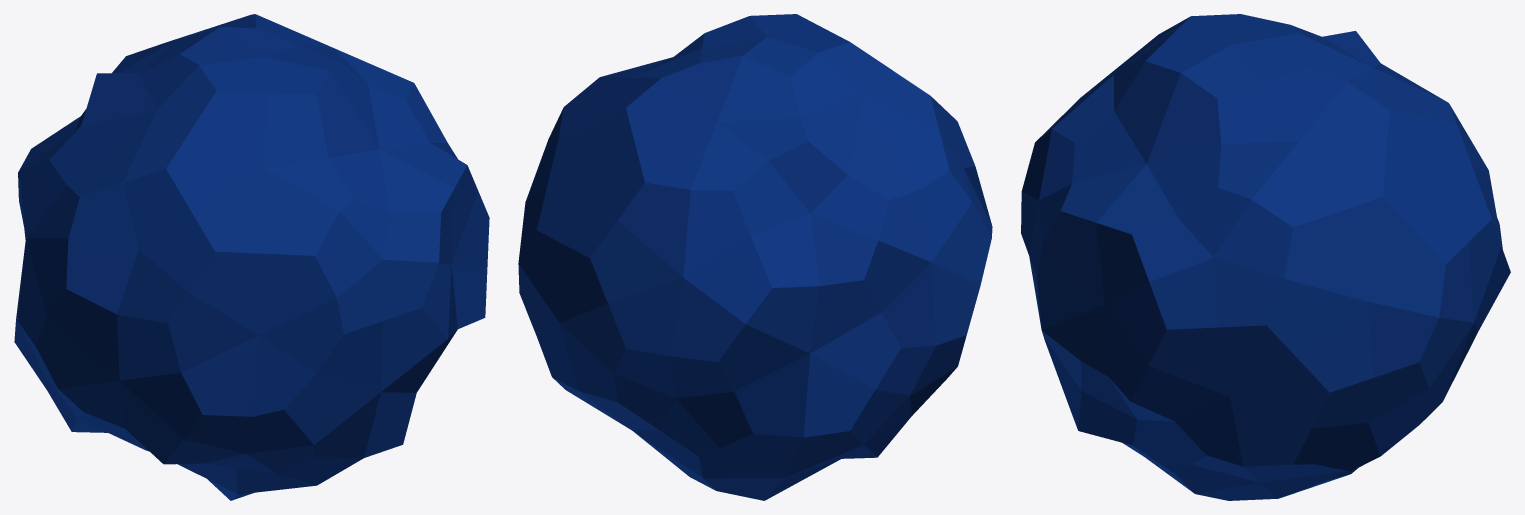
Rendered from planet 6.obj.
3 views of the same model, side by side, from view 1: azimuth 30°, elevation 25°; view 2: azimuth 150°, elevation 25°; view 3: azimuth 270°, elevation 25° (orthographic). The views are drawn at different scales.
Parts seen in each view (by area): view 1: polySurface456 pSolid56; view 2: polySurface456 pSolid56; view 3: polySurface456 pSolid56.
Part boxes in pixels (x1=…): polySurface456 pSolid56: x1=14, y1=14, x2=489, y2=500; polySurface456 pSolid56: x1=518, y1=14, x2=992, y2=500; polySurface456 pSolid56: x1=1021, y1=14, x2=1510, y2=500.
Bounding box in the file's own units: 291 × 284 × 285.
